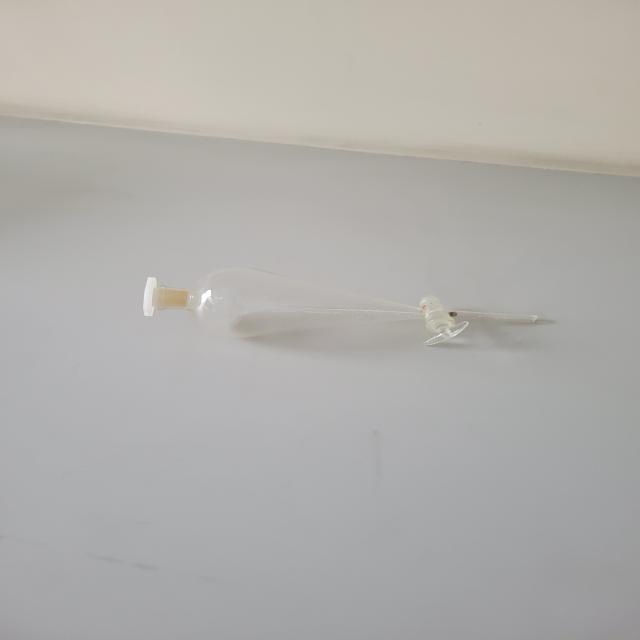Separating_Funnel: (98, 234, 580, 390)
